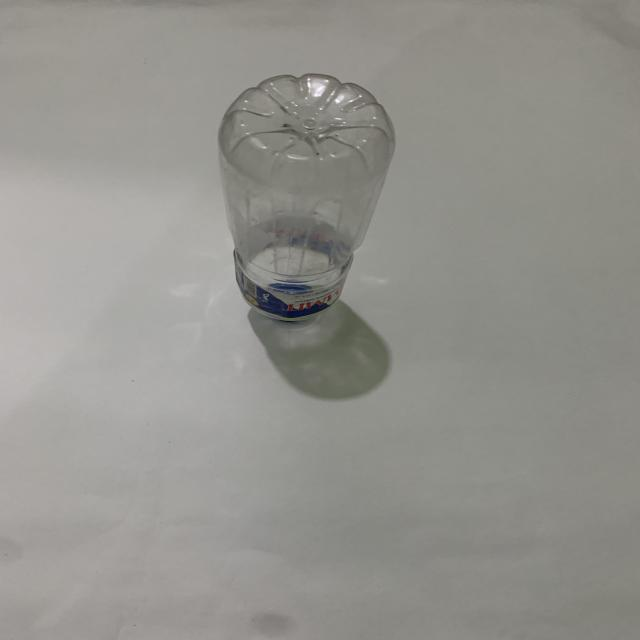bottle: (214, 68, 400, 327)
